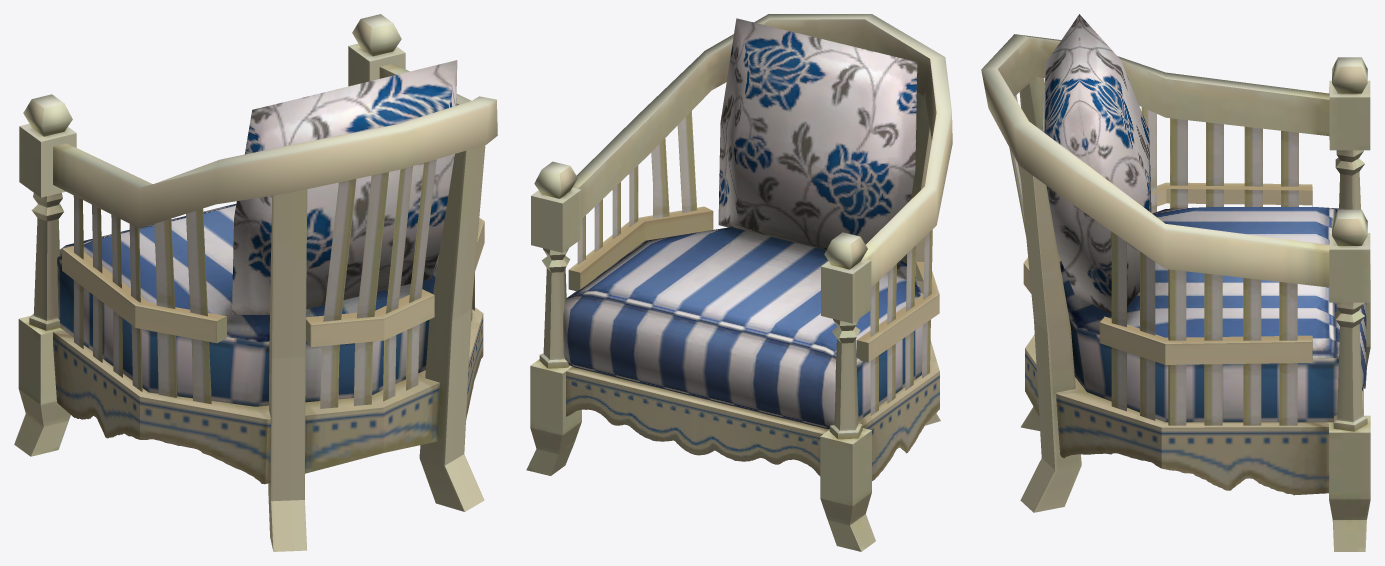
File: furni_0200125_03.FBX
3 views of the same model, side by side, from view 1: azimuth 30°, elevation 25°; view 2: azimuth 150°, elevation 25°; view 3: azimuth 270°, elevation 25° (orthographic). The views are drawn at different scales.
Visible parts, largest first — view 1: furni_0200125; view 2: furni_0200125; view 3: furni_0200125.
Boxes of the visible parts, <box> form: furni_0200125: <box>14,14,497,551</box>; furni_0200125: <box>526,14,952,551</box>; furni_0200125: <box>981,14,1370,551</box>.
Bounding box in the file's own units: 85.5 × 91.11 × 79.94.
